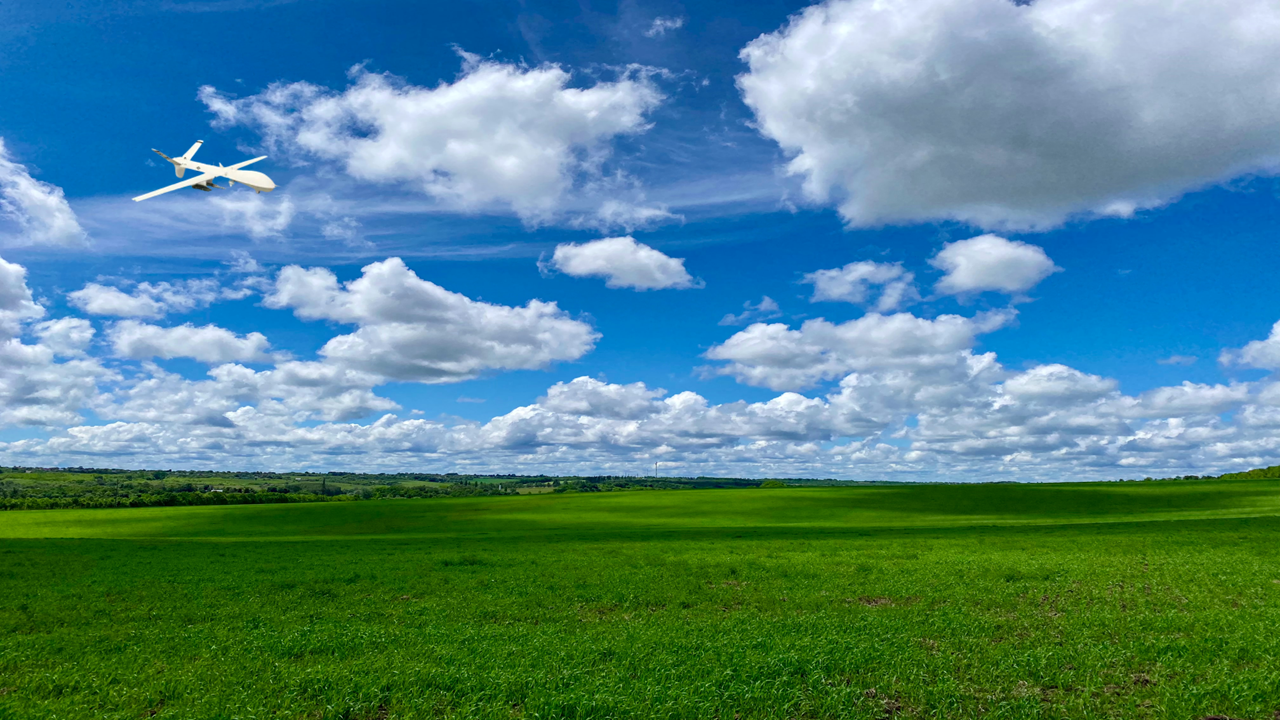military drone: (131, 139, 275, 202)
